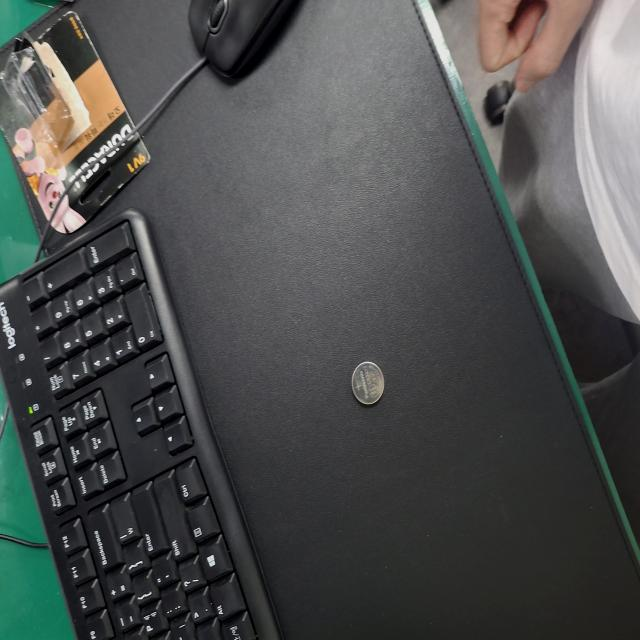COIN: (272, 341, 304, 385)
